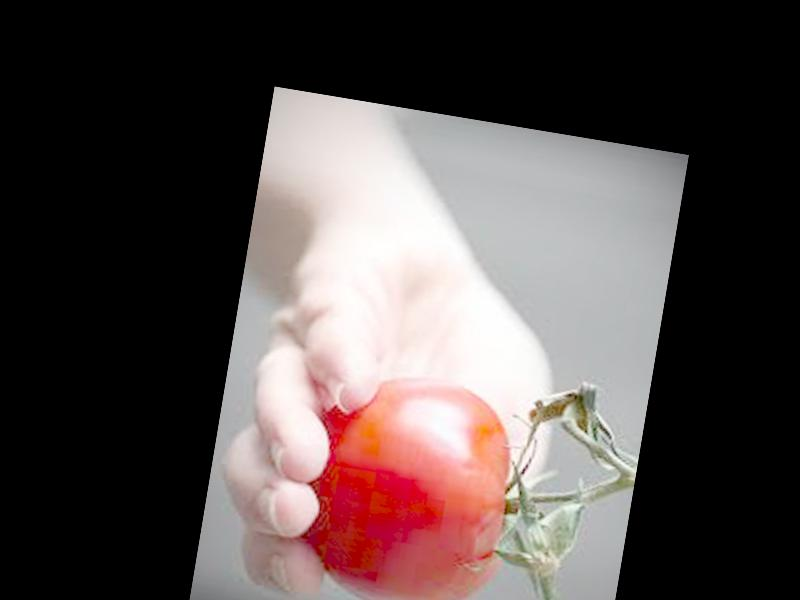Tomato: (292, 363, 532, 600)
